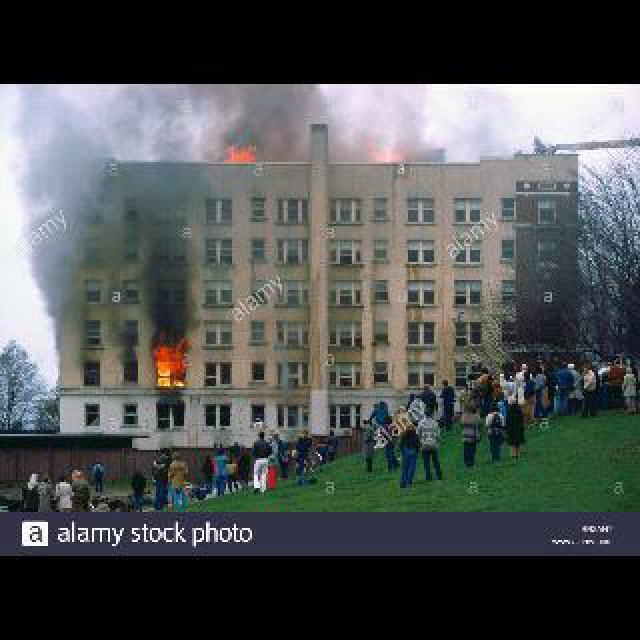fire: (152, 344, 194, 386), (222, 138, 256, 164), (372, 148, 402, 162)
smoke: (17, 90, 205, 338), (211, 80, 325, 141)
